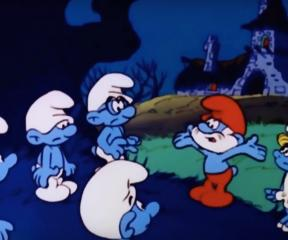smurf: (172, 93, 269, 209), (18, 88, 80, 203), (78, 159, 164, 239), (84, 71, 142, 160)
